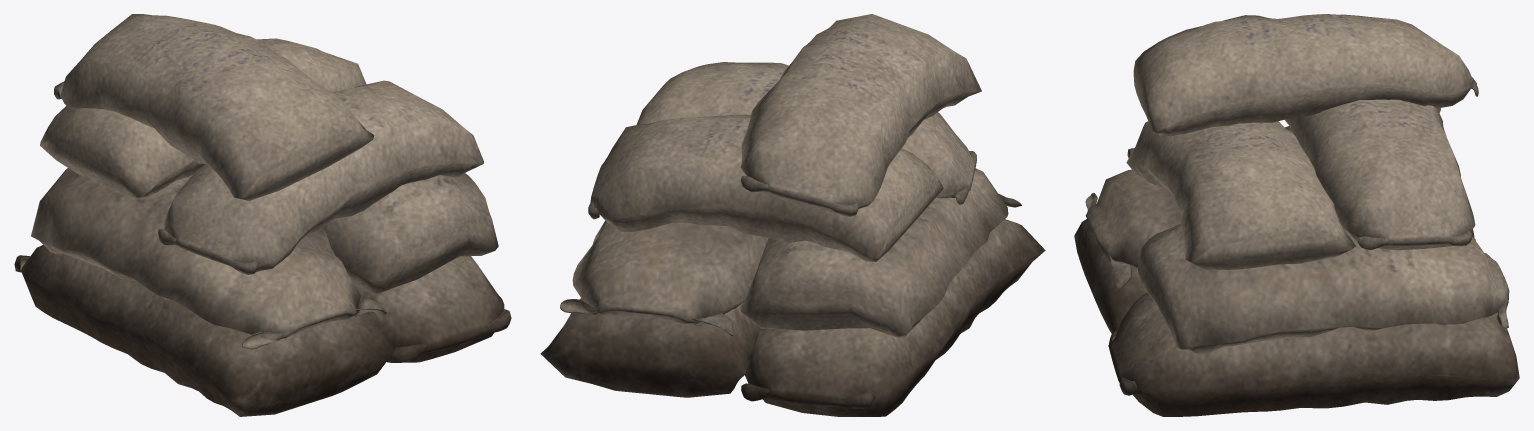
Rendered from SM_FAR_Blocker_01B_Merged.fbx.
The picture shows the model from 3 angles, left to right: view 1: azimuth 30°, elevation 25°; view 2: azimuth 150°, elevation 25°; view 3: azimuth 270°, elevation 25°; orthographic projection.
Parts seen in each view (by area): view 1: SM_FAR_Blocker_01B_Merged.mo; view 2: SM_FAR_Blocker_01B_Merged.mo; view 3: SM_FAR_Blocker_01B_Merged.mo.
Boxes of the visible parts, box(x1,y1,x2,y2) form: SM_FAR_Blocker_01B_Merged.mo: box(14, 14, 511, 416); SM_FAR_Blocker_01B_Merged.mo: box(540, 14, 1045, 416); SM_FAR_Blocker_01B_Merged.mo: box(1074, 14, 1519, 416).
Size of the model in its own units: 74.48 by 60.84 by 80.7.
